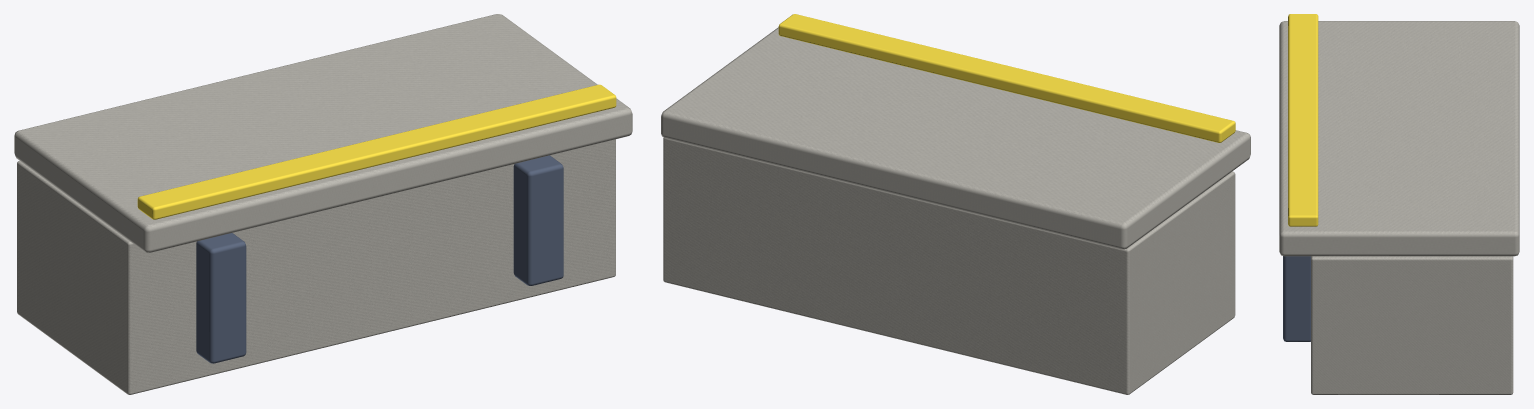
File: hero-shooter-harbour-payload-harbour-quay-edge-4b911731__27701.glb
3 renders of one model, left to right at view 1: azimuth 30°, elevation 25°; view 2: azimuth 150°, elevation 25°; view 3: azimuth 270°, elevation 25°, orthographic. The views are drawn at different scales.
Parts seen in each view (by area): view 1: harbour-quay-edge; view 2: harbour-quay-edge; view 3: harbour-quay-edge.
Boxes of the visible parts, x1,y1,x2,y2 form: harbour-quay-edge: (14, 14, 632, 394); harbour-quay-edge: (661, 14, 1250, 394); harbour-quay-edge: (1279, 14, 1519, 394).
Bounding box in the file's own units: 4 × 1.52 × 1.9.
Materials: 3 (1 with a texture image).
